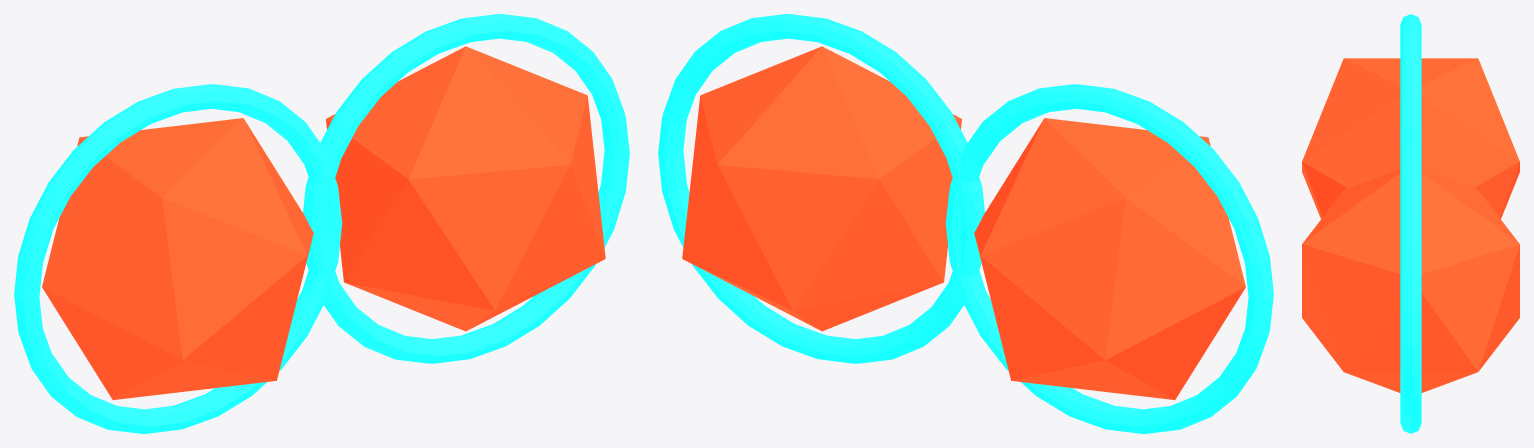
Rendered from calamity_cores.glb.
The picture shows the model from 3 angles, left to right: view 1: azimuth 30°, elevation 25°; view 2: azimuth 150°, elevation 25°; view 3: azimuth 270°, elevation 25°; orthographic projection. The views are drawn at different scales.
Visible parts, largest first — view 1: Mana_00.003, Mana_01.003, Torus.026, Torus.025; view 2: Mana_00.003, Mana_01.003, Torus.026, Torus.025; view 3: Mana_00.003, Mana_01.003, Torus.025, Torus.026.
Boxes of the visible parts, left/top/right/bottom form: Mana_00.003: left=326, top=46, right=605, bottom=331; Mana_01.003: left=42, top=118, right=313, bottom=399; Torus.026: left=14, top=84, right=342, bottom=433; Torus.025: left=303, top=14, right=629, bottom=363; Mana_00.003: left=682, top=46, right=961, bottom=331; Mana_01.003: left=974, top=118, right=1245, bottom=399; Torus.026: left=945, top=84, right=1273, bottom=433; Torus.025: left=658, top=14, right=984, bottom=363; Mana_00.003: left=1302, top=169, right=1519, bottom=392; Mana_01.003: left=1302, top=58, right=1519, bottom=218; Torus.025: left=1400, top=128, right=1421, bottom=433; Torus.026: left=1400, top=14, right=1421, bottom=137.
Size of the model in its own units: 1.62 by 0.86 by 0.6125.
